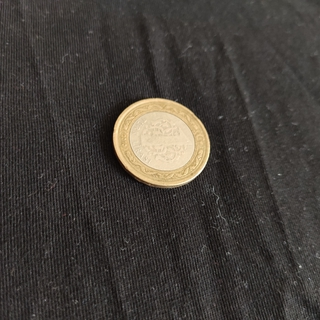1TL: (111, 96, 213, 189)
